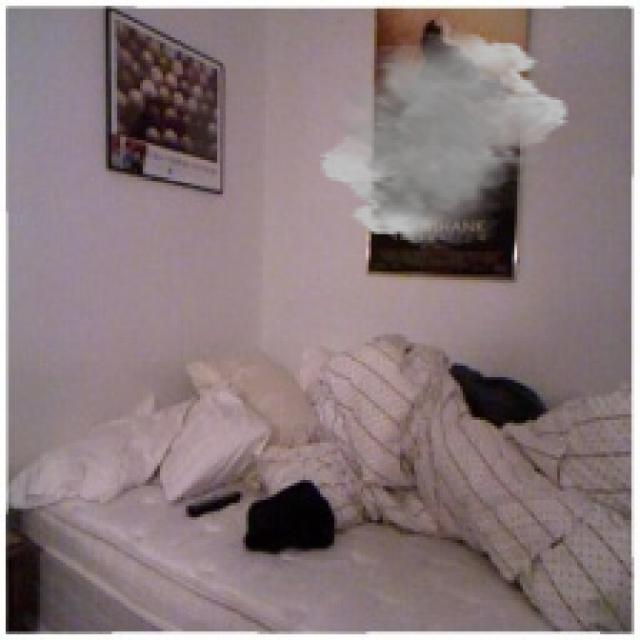smoke: (317, 28, 572, 248)
